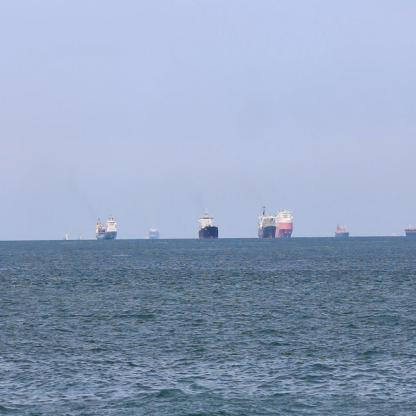Container Ship: (257, 200, 278, 238), (197, 204, 219, 240), (94, 214, 119, 241), (276, 203, 292, 238), (334, 220, 351, 238), (404, 219, 415, 236), (148, 226, 160, 240), (63, 227, 71, 239), (77, 230, 85, 240)
